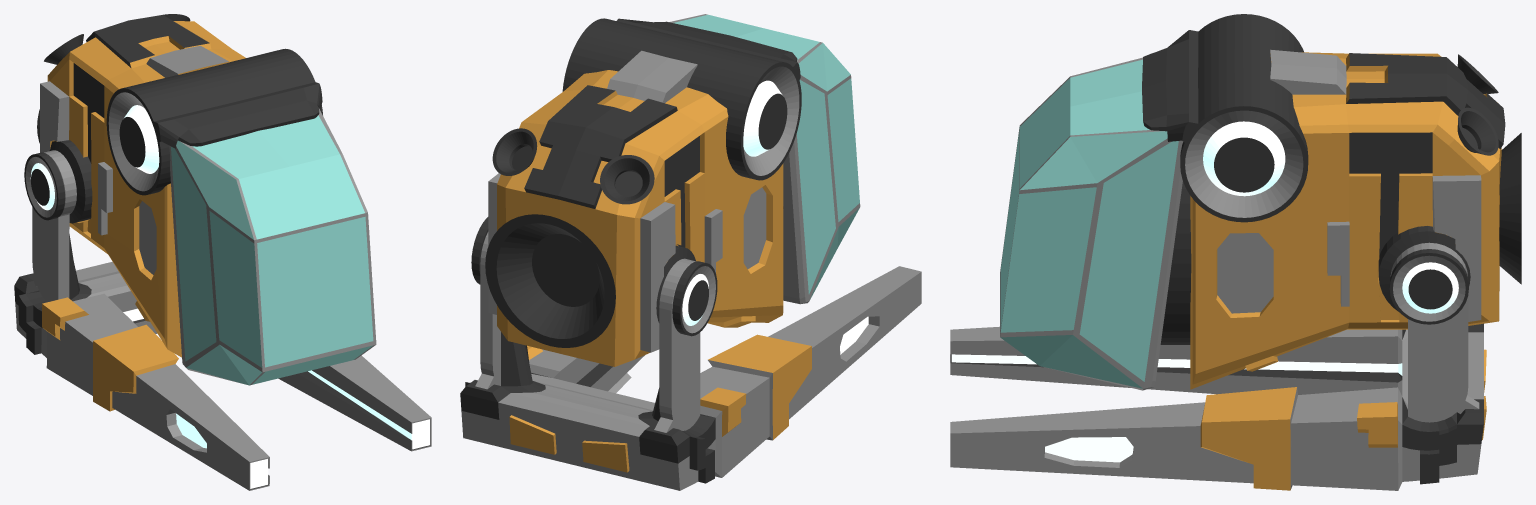
File: LionHead.glb
3 views of the same model, side by side, from view 1: azimuth 30°, elevation 25°; view 2: azimuth 150°, elevation 25°; view 3: azimuth 270°, elevation 25° (orthographic). The views are drawn at different scales.
Parts seen in each view (by area): view 1: CockPit, Hull, Cylinder.008, Cylinder.005, Cylinder.007; view 2: Hull, Cylinder.008, CockPit, Cylinder.005, Cylinder.007, Cylinder.004; view 3: Hull, Cylinder.005, CockPit, Cylinder.008, Cylinder.004, Cylinder.001.
Boxes of the visible parts, bbox=[...] form: CockPit: bbox=[169, 108, 376, 385]; Hull: bbox=[37, 14, 322, 357]; Cylinder.008: bbox=[14, 150, 269, 490]; Cylinder.005: bbox=[147, 321, 431, 451]; Cylinder.007: bbox=[24, 140, 92, 223]; Hull: bbox=[485, 18, 801, 366]; Cylinder.008: bbox=[569, 258, 921, 490]; CockPit: bbox=[669, 14, 860, 304]; Cylinder.005: bbox=[460, 232, 644, 464]; Cylinder.007: bbox=[656, 245, 717, 336]; Cylinder.004: bbox=[471, 217, 488, 284]; Hull: bbox=[1142, 14, 1521, 389]; Cylinder.005: bbox=[950, 242, 1486, 490]; CockPit: bbox=[1000, 57, 1183, 390]; Cylinder.008: bbox=[950, 323, 1486, 395]; Cylinder.004: bbox=[1378, 226, 1470, 324]; Cylinder.001: bbox=[1160, 182, 1191, 344].
Bounding box in the file's own units: 1.89 × 2.69 × 3.73.
